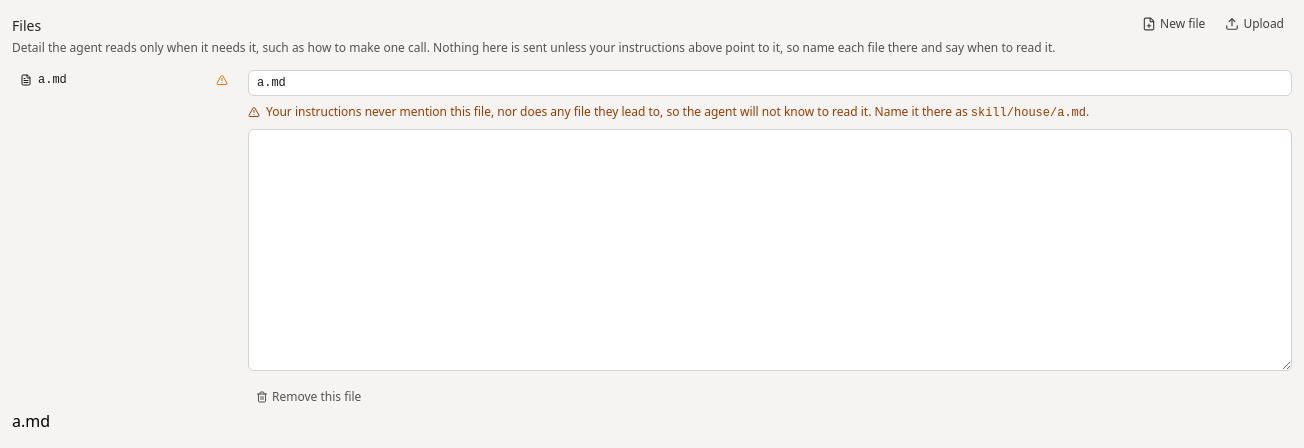
Test case: the files a skill carries › renames a file when the name is left
Replace the text in the field named "File name" with "ops/get_room.md": x=770, y=83 [248,70,1292,96]
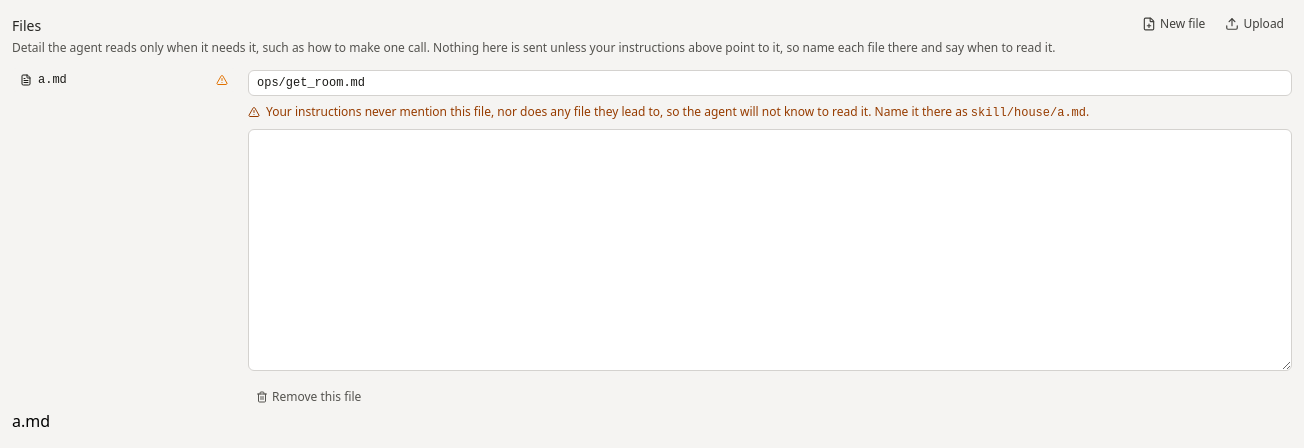
Leave the field named "File name", box [248,70,1292,96]
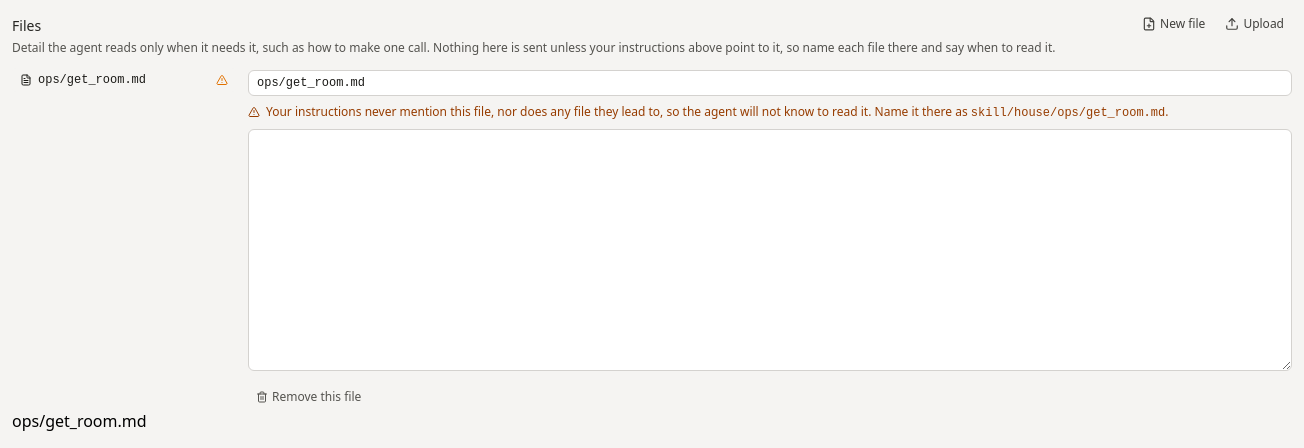
Result: the text "ops/get_room.md" below "Files" is shown at [38,73,146,87]
